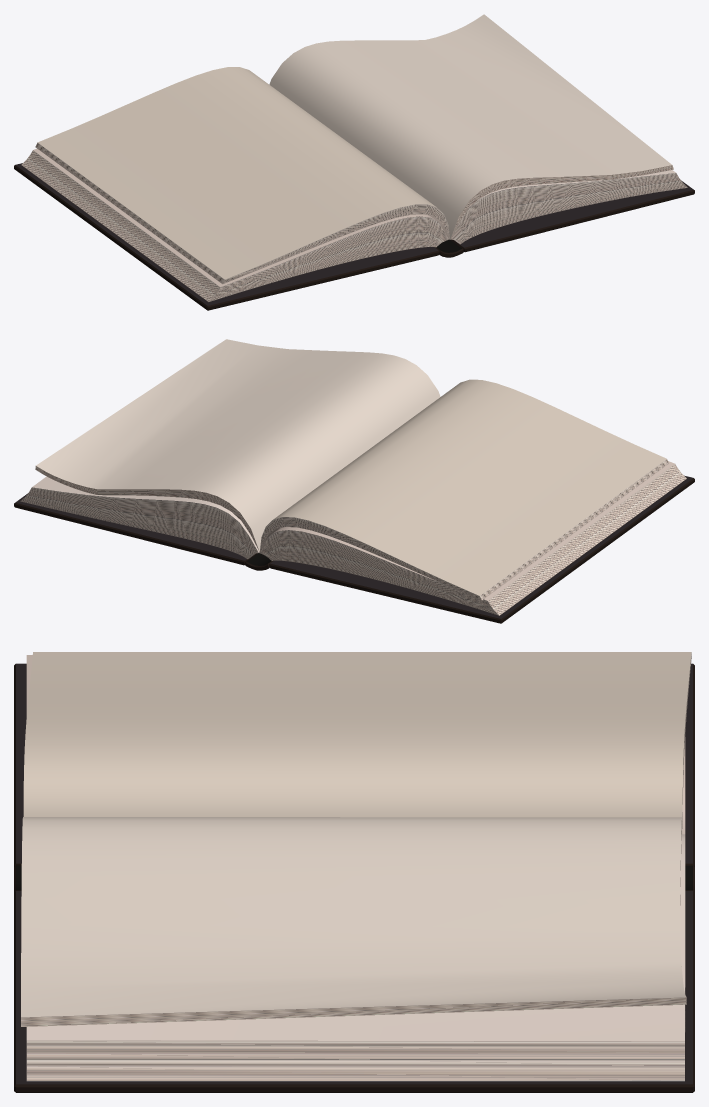
File: book.glb
The picture shows the model from 3 angles, top to bottom: view 1: azimuth 30°, elevation 25°; view 2: azimuth 150°, elevation 25°; view 3: azimuth 270°, elevation 25°; orthographic projection. The views are drawn at different scales.
Parts seen in each view (by area): view 1: Book_Texture-base_0; view 2: Book_Texture-base_0; view 3: Book_Texture-base_0.
Boxes of the visible parts, <box> form: Book_Texture-base_0: <box>14,14,694,310</box>; Book_Texture-base_0: <box>14,339,694,623</box>; Book_Texture-base_0: <box>14,652,694,1092</box>.
Bounding box in the file's own units: 103 × 12.58 × 70.88.
1 material, 1 textured.
